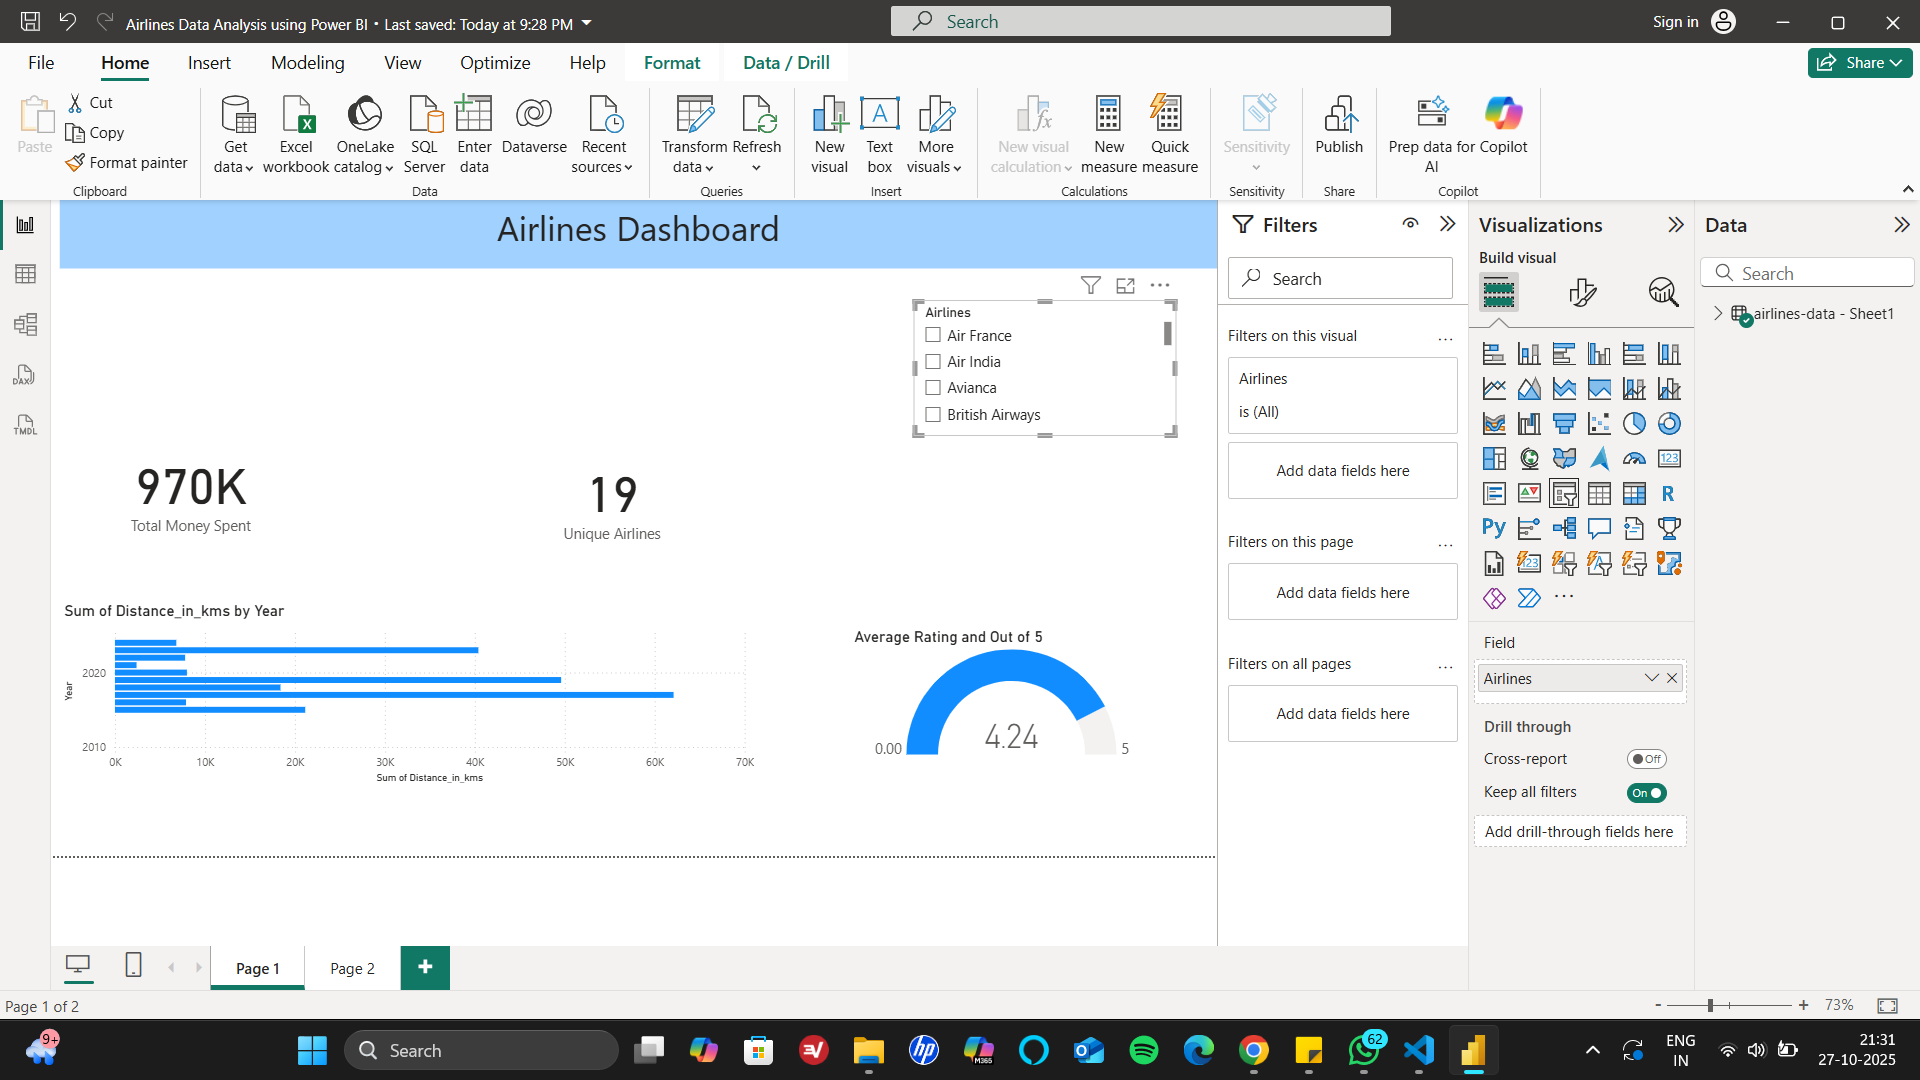

This screenshot's page, from the dashboard's own definition file:
{"tool":"powerbi","page":{"name":"Page 1","canvas":[1280,720],"ordinal":0},"visuals":[{"type":"textbox","box":[9.6,0,1270.7,75.5],"z":0},{"type":"card","fields":{"Values":["Sum(airlines-data - Sheet1.Cost_in_rupees)"]},"box":[9.6,247,288.2,142.7],"z":1000},{"type":"card","fields":{"Values":["Count(airlines-data - Sheet1.Airlines)"]},"box":[455.6,249.7,321.1,155.1],"z":2000},{"type":"gauge","fields":{"Y":["Avg(airlines-data - Sheet1.Rating_on_5)"],"MaxValue":["Max(airlines-data - Sheet1.Rating_on_5)1"]},"box":[876.8,469.3,334.8,149.6],"z":3000},{"type":"clusteredBarChart","fields":{"Category":["airlines-data - Sheet1.Year"],"Y":["Sum(airlines-data - Sheet1.Distance_in_kms)"]},"box":[9.6,440.5,767.1,204.5],"z":4000},{"type":"slicer","fields":{"Values":["airlines-data - Sheet1.Airlines"]},"box":[946.8,109.8,288.2,149.6],"z":5000}]}

Visuals, with their boxes on the page's 1280x720 design canvas (x1, y1, x2, y2). These are canvas units, not pixel positions in the 1920x1080 screenshot, which may show the page scaled, cropped or inside an application window:
textbox: detection(10, 0, 1280, 76)
card - Sum(airlines-data - Sheet1.Cost_in_rupees): detection(10, 247, 298, 390)
card - Count(airlines-data - Sheet1.Airlines): detection(456, 250, 777, 405)
gauge - Avg(airlines-data - Sheet1.Rating_on_5) x Max(airlines-data - Sheet1.Rating_on_5)1: detection(877, 469, 1212, 619)
clusteredBarChart - airlines-data - Sheet1.Year x Sum(airlines-data - Sheet1.Distance_in_kms): detection(10, 440, 777, 645)
slicer - airlines-data - Sheet1.Airlines: detection(947, 110, 1235, 259)
